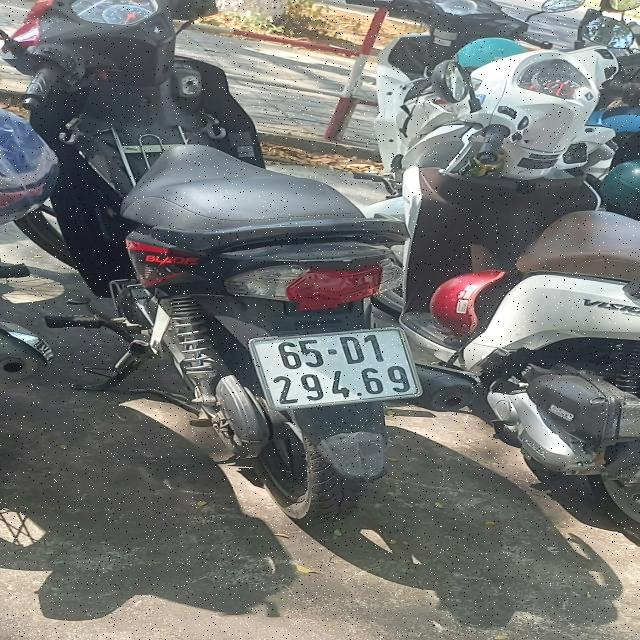1: (365, 334, 388, 362)
2: (273, 376, 299, 405)
4: (330, 371, 352, 398)
5: (299, 338, 324, 368)
6: (279, 342, 302, 370), (361, 368, 384, 394)
9: (388, 365, 413, 393), (301, 374, 324, 401)
D: (338, 336, 366, 365)
